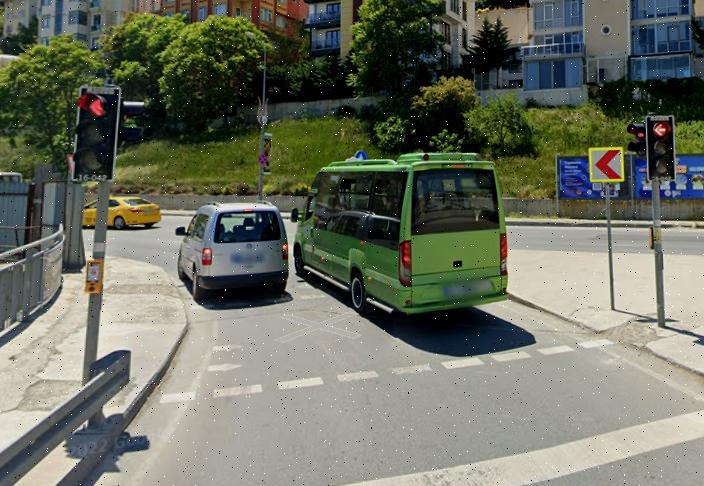redlight: (73, 85, 115, 181), (644, 117, 673, 183), (627, 119, 644, 171)
